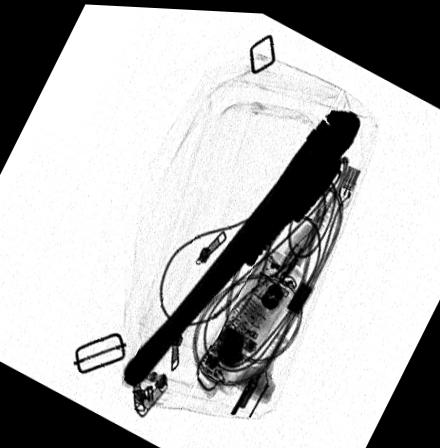Wrench: (120, 102, 360, 385)
